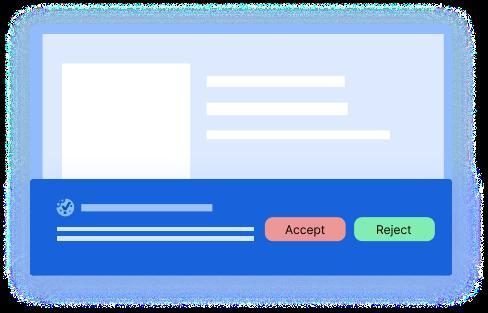button: (352, 217, 438, 243), (266, 218, 347, 243)
